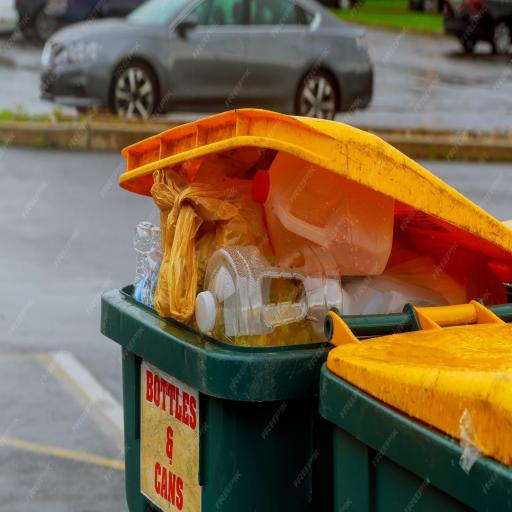Contenedor_Lleno: (120, 109, 512, 314), (101, 285, 332, 512)
